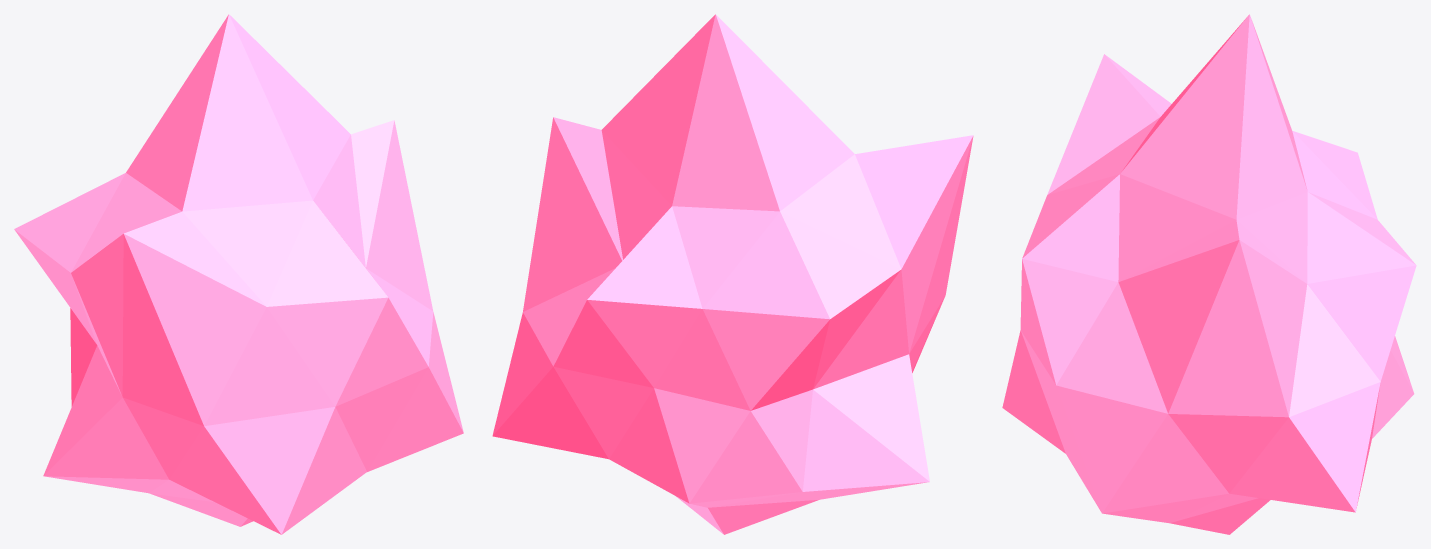
Rendered from 0426_fire.fbx.
3 views of the same model, side by side, from view 1: azimuth 30°, elevation 25°; view 2: azimuth 150°, elevation 25°; view 3: azimuth 270°, elevation 25° (orthographic). The views are drawn at different scales.
Parts seen in each view (by area): view 1: Icosphere.003; view 2: Icosphere.003; view 3: Icosphere.003.
Part boxes in pixels (x1,y1,x2,y2): Icosphere.003: [14, 14, 463, 534]; Icosphere.003: [492, 14, 973, 534]; Icosphere.003: [1002, 14, 1416, 534].
Bounding box in the file's own units: 102 × 137 × 99.03.
